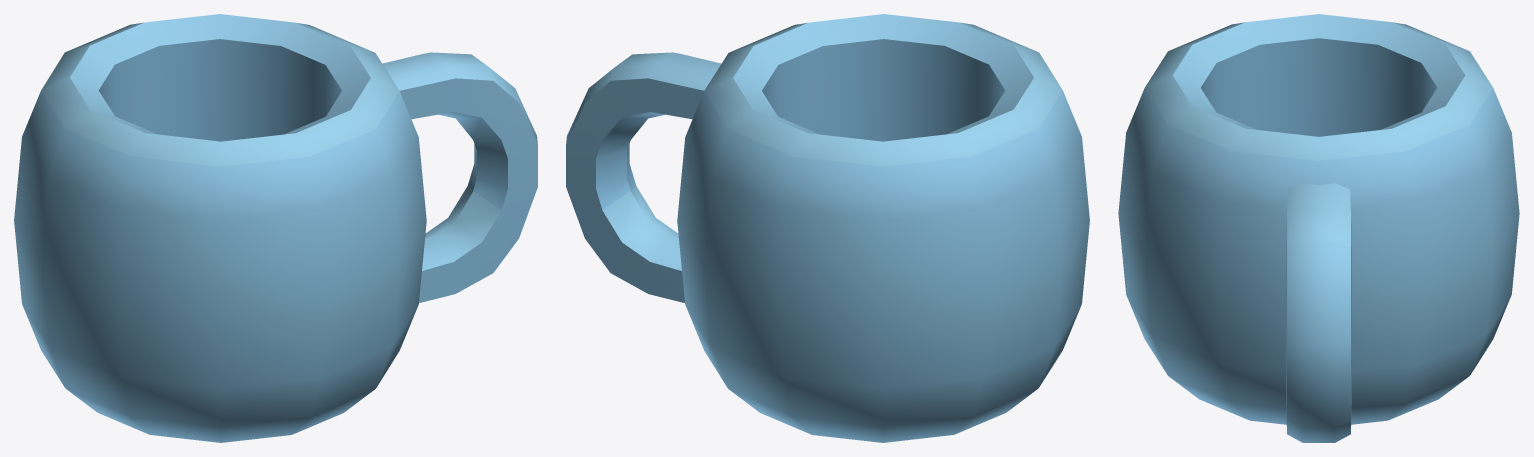
Rendered from mug-a-blue.glb.
The picture shows the model from 3 angles, left to right: view 1: azimuth 30°, elevation 25°; view 2: azimuth 150°, elevation 25°; view 3: azimuth 270°, elevation 25°; orthographic projection. The views are drawn at different scales.
Parts seen in each view (by area): view 1: mug_A_blue; view 2: mug_A_blue; view 3: mug_A_blue.
Part boxes in pixels (left/top/right/bottom): mug_A_blue: left=14, top=14, right=537, bottom=442; mug_A_blue: left=566, top=14, right=1089, bottom=442; mug_A_blue: left=1118, top=14, right=1519, bottom=442.
Bounding box in the file's own units: 0.5851 × 0.35 × 0.4315.
1 material, 1 textured.
